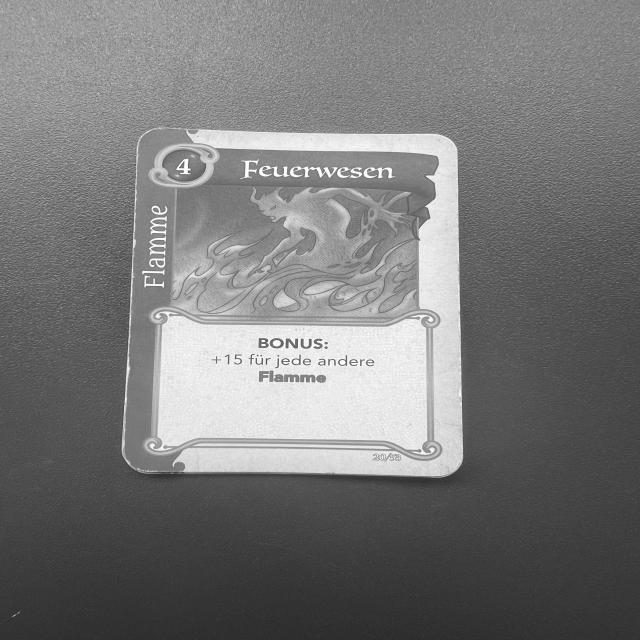Fire Elemental: (115, 125, 467, 477)
